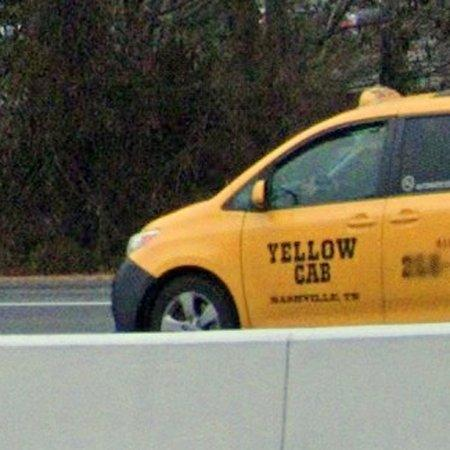taxis: (112, 88, 450, 332)
